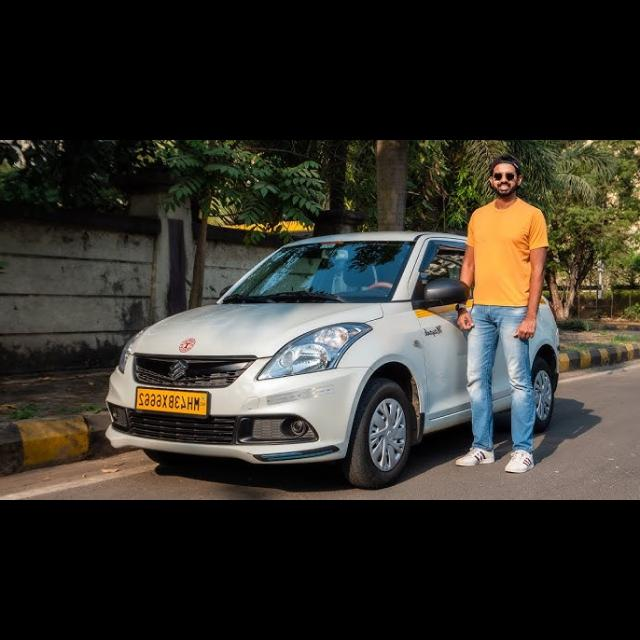vehicles: (114, 229, 554, 489)
